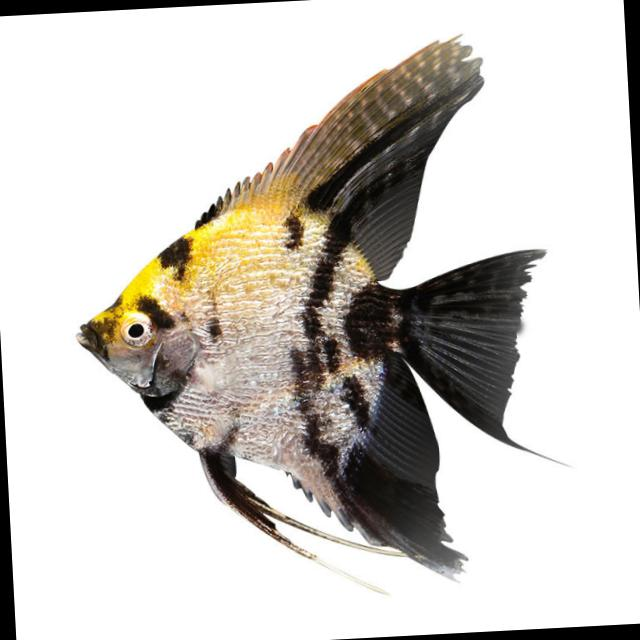AngelFish: (63, 36, 544, 596)
